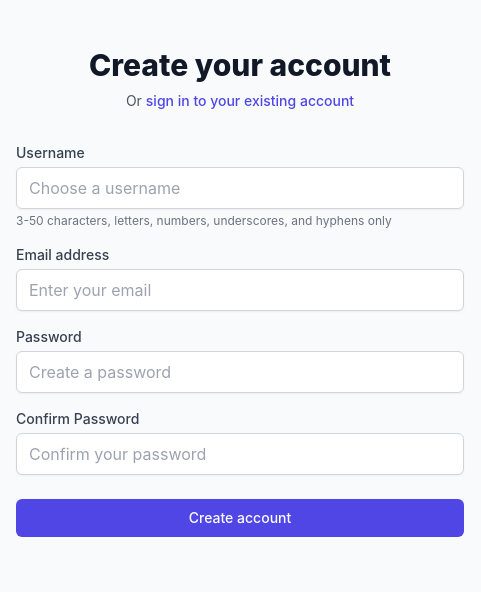
Register Component › shows validation error for weak password
This screenshot has width=481, height=592.
Type "testuser" into the field labelled "Username" at {"x": 240, "y": 188}, box x1=16 y1=167 x2=464 y2=209
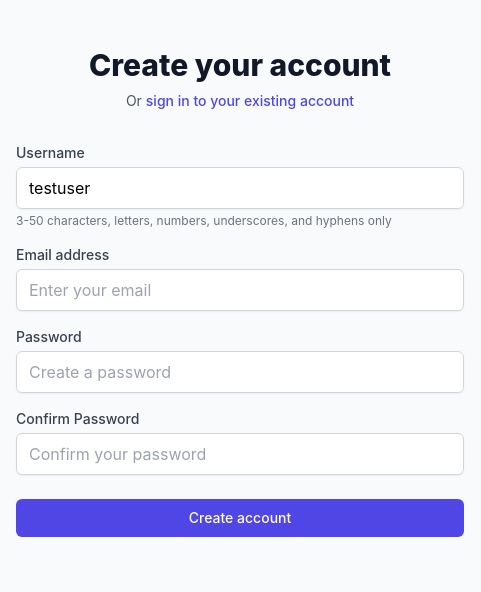
Type "test@example.com" into the field labelled "Email address" at {"x": 240, "y": 290}, box x1=16 y1=269 x2=464 y2=311
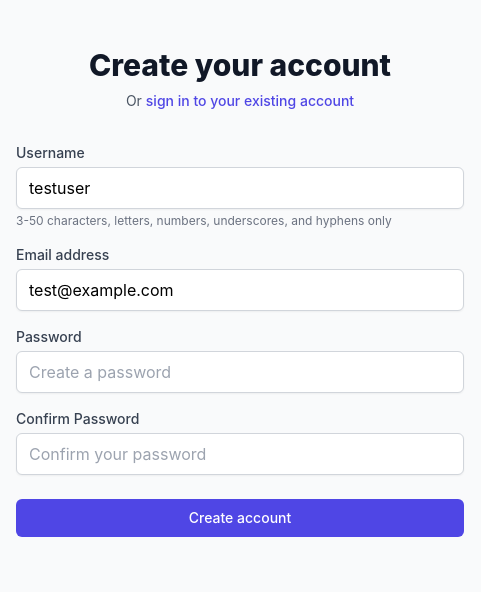
Type "123" into the password field labelled "Password" at {"x": 240, "y": 372}, box x1=16 y1=351 x2=464 y2=393
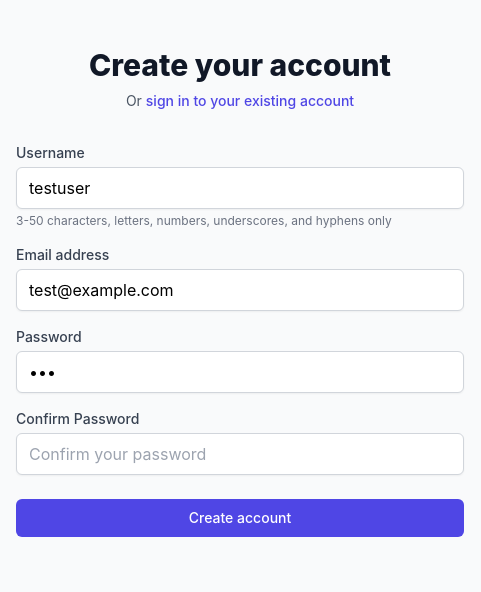
Type "123" into the password field labelled "Confirm Password" at {"x": 240, "y": 454}, box x1=16 y1=433 x2=464 y2=475
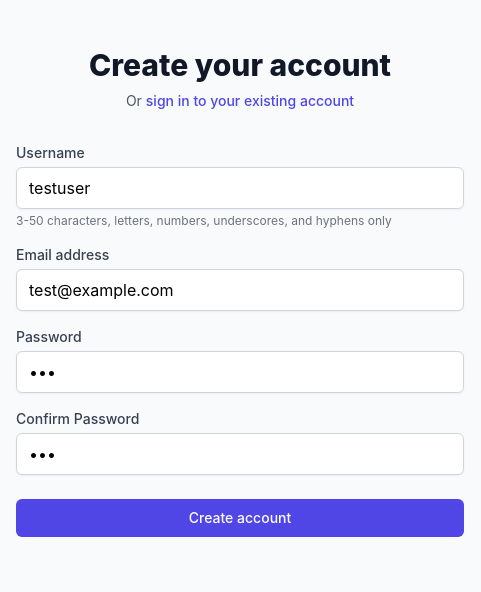
Click the button "Create account" at {"x": 240, "y": 518}, box x1=16 y1=499 x2=464 y2=537
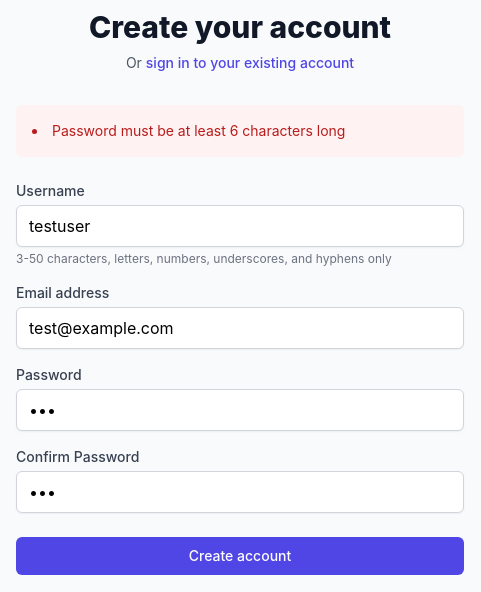
Expected: the list item "Password must be at least 6 characters long" is shown, x1=52 y1=122 x2=345 y2=139
